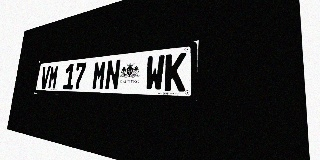1: (63, 63, 76, 89)
7: (73, 62, 87, 90)
K: (164, 52, 187, 91)
M: (92, 60, 107, 90), (47, 65, 59, 89)
N: (104, 59, 121, 90)
V: (40, 66, 51, 89)
W: (145, 55, 165, 91)
